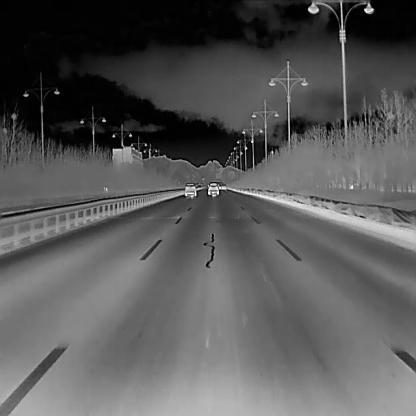car: (207, 181, 220, 197), (184, 181, 196, 196), (221, 184, 227, 190)
